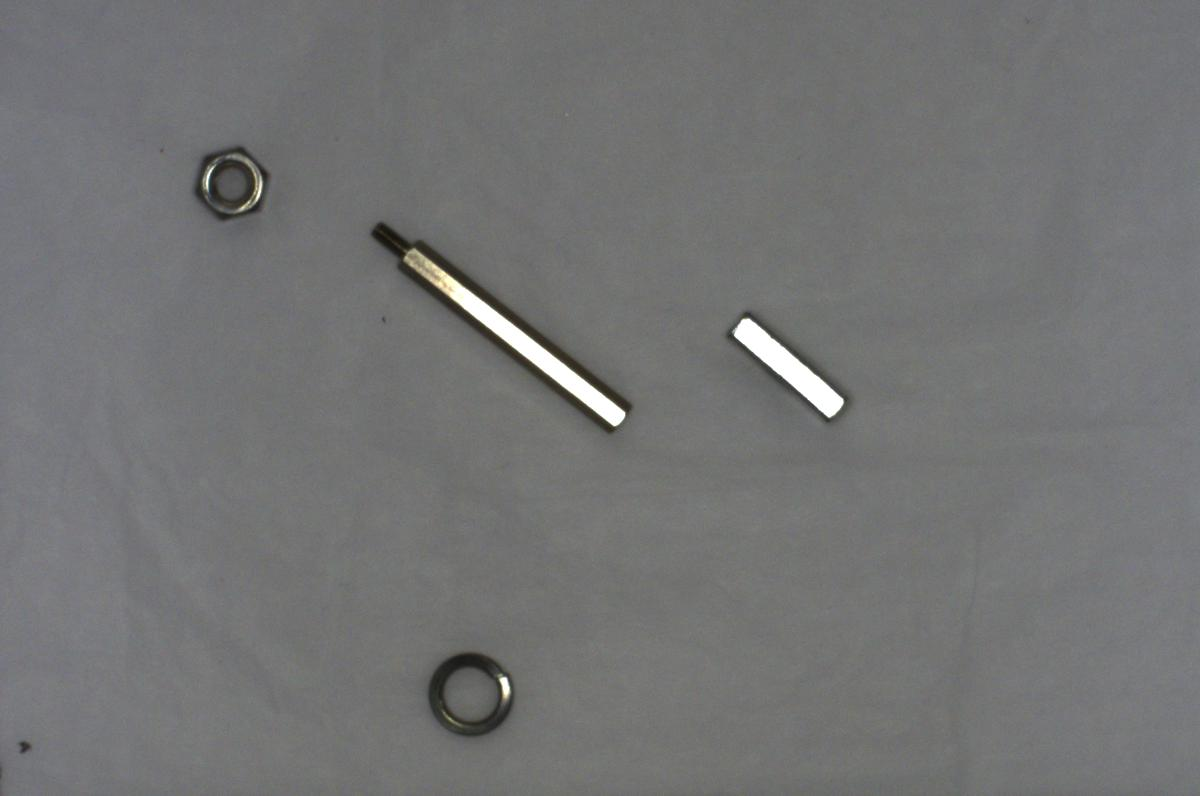Hexagon nut: (177, 134, 277, 227)
Hexagonal steel column: (360, 214, 642, 442)
Rectangular nut: (721, 307, 855, 432)
Spring washer: (425, 639, 518, 739)
